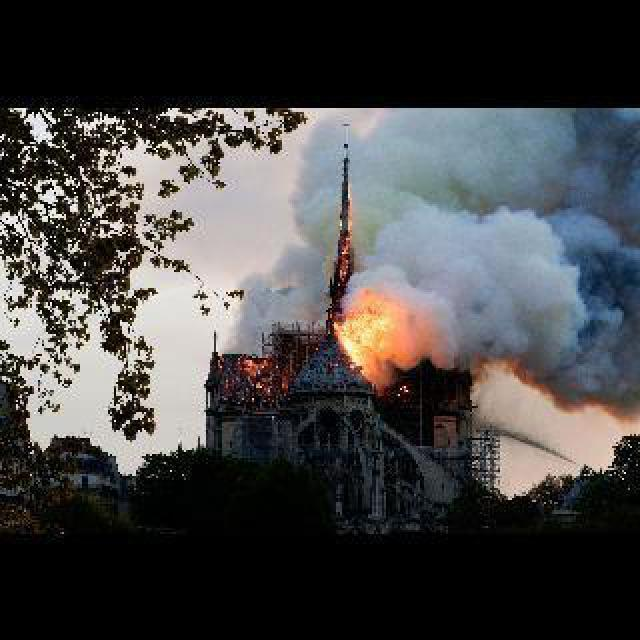Fire: (336, 278, 416, 368), (216, 340, 292, 410), (332, 164, 364, 278)
Smoke: (414, 106, 638, 392)
